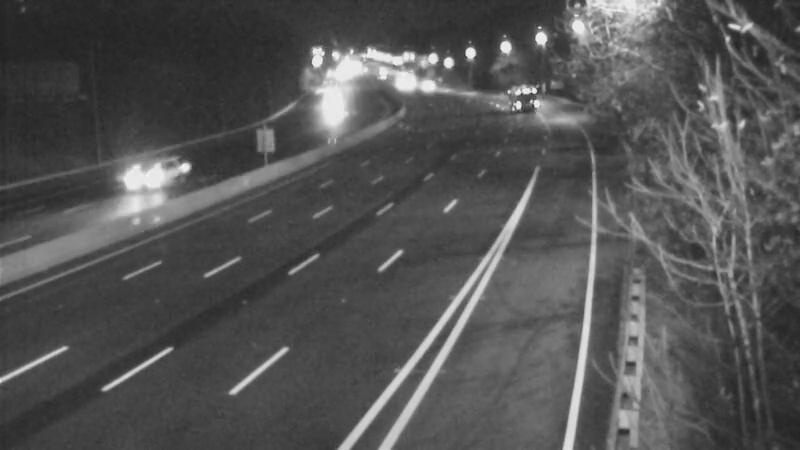vehicle: (113, 135, 193, 215), (496, 71, 546, 121), (307, 87, 357, 137)
